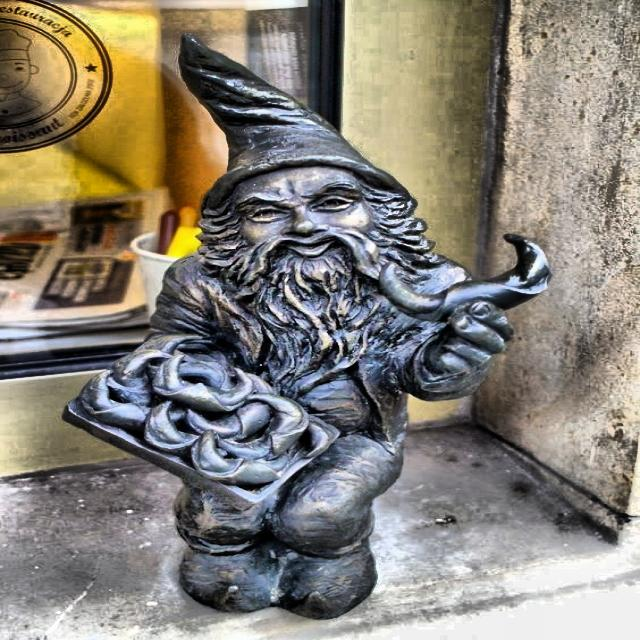Rogalik: (64, 34, 551, 622)
